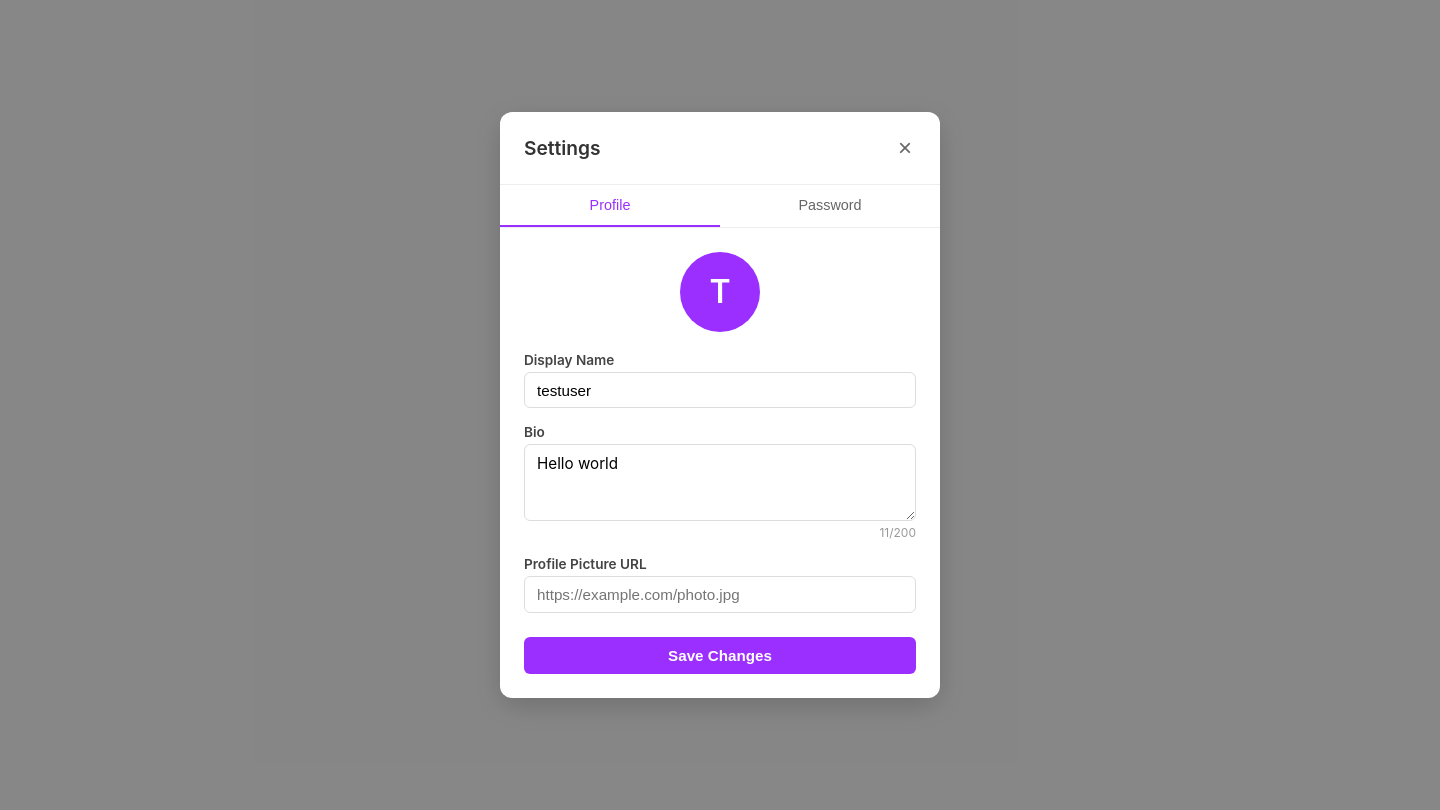
it: ProfileSettings Component › changes password successfully
Click the button "Password": (830, 206) x1=720 y1=185 x2=940 y2=227
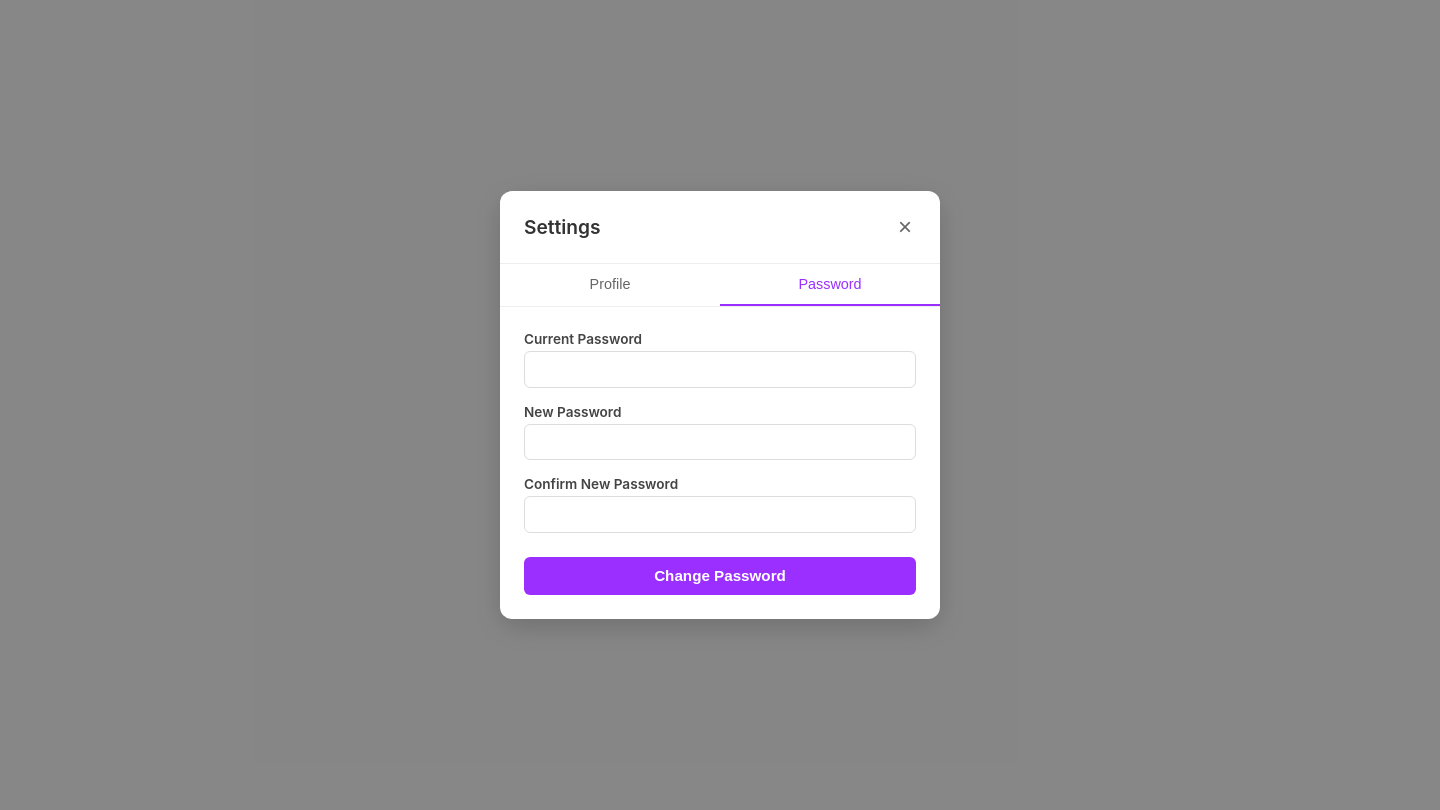
In the 1st password field: (720, 370) x1=524 y1=351 x2=916 y2=388, type "oldpassword"
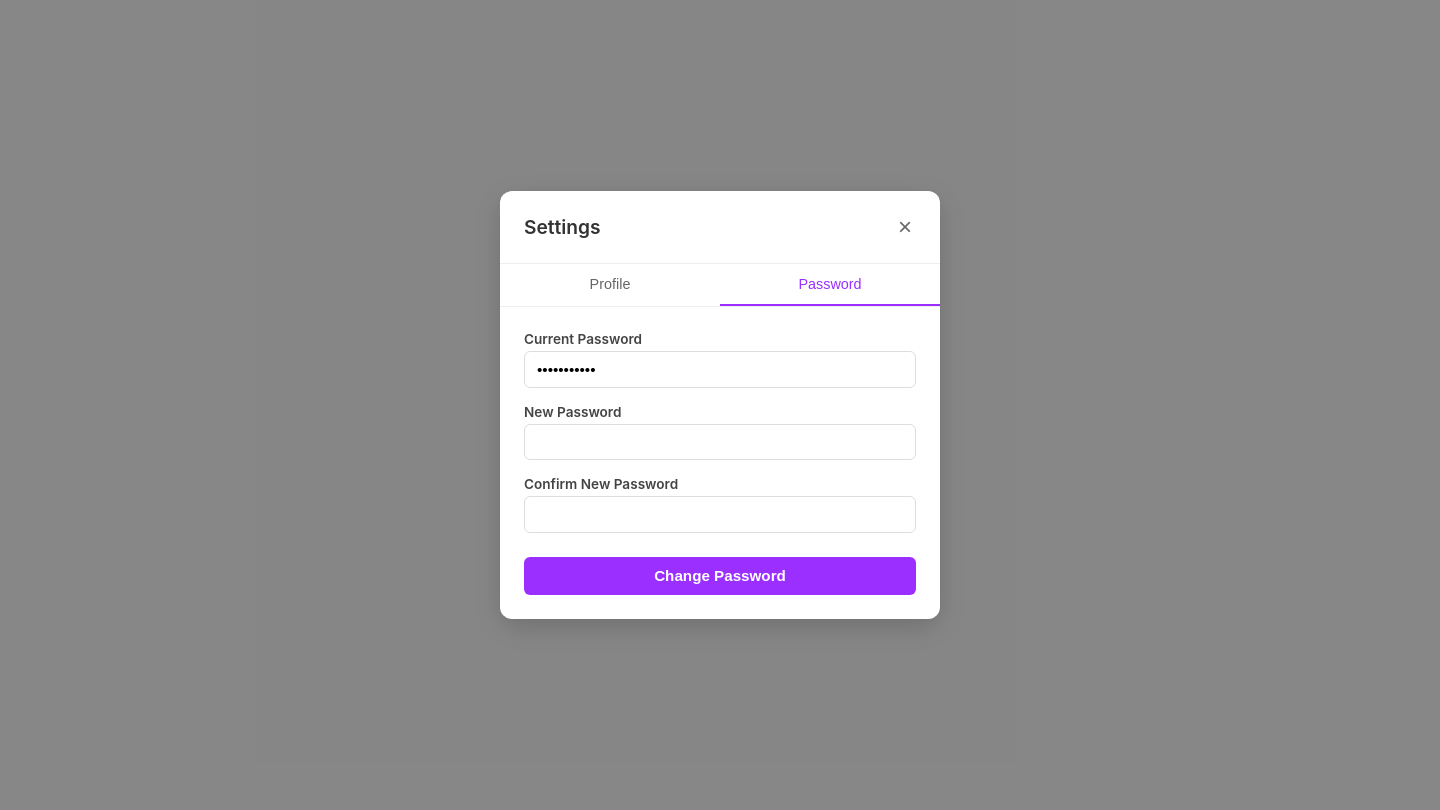
In the 2nd password field: (720, 442) x1=524 y1=424 x2=916 y2=460, type "newpassword"
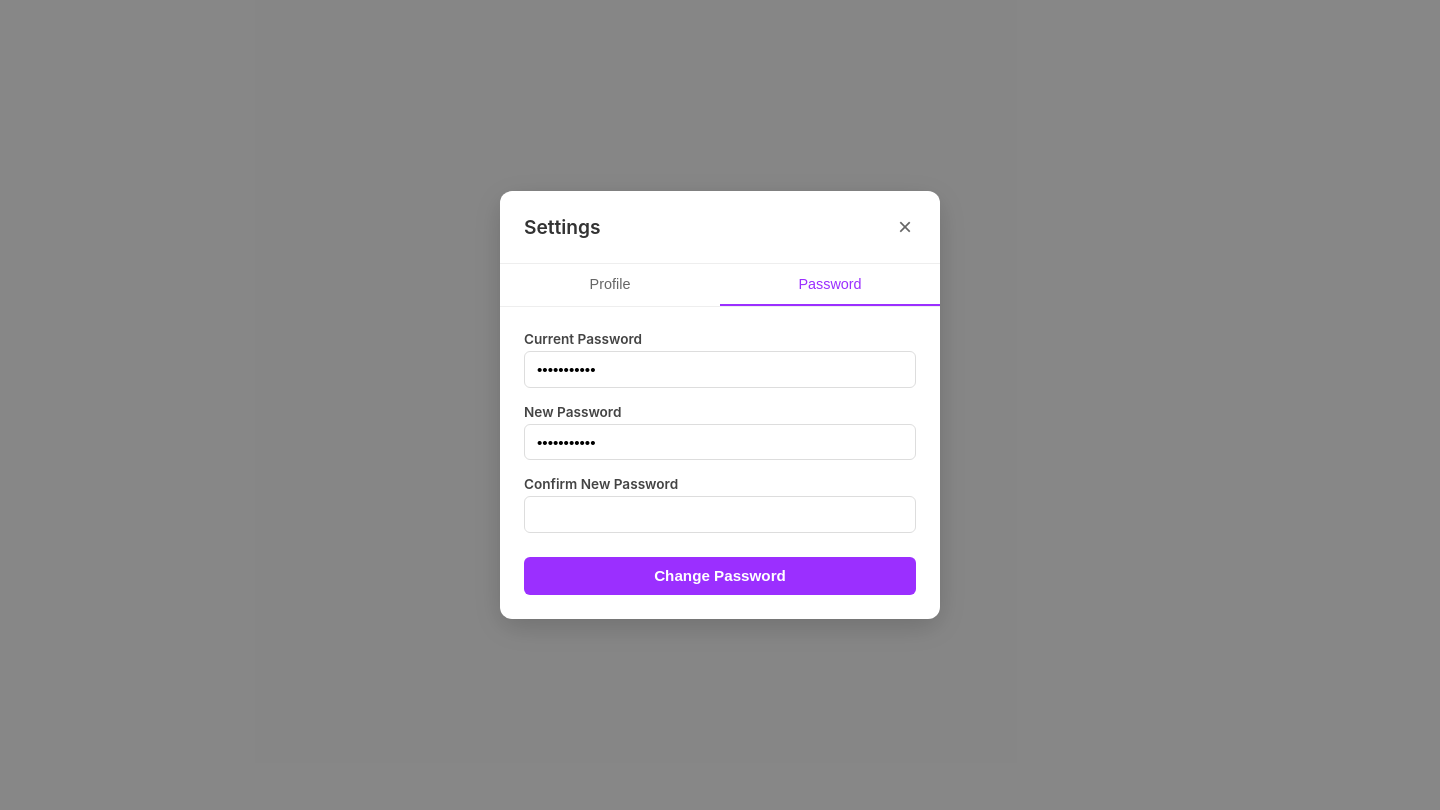
In the 3rd password field: (720, 515) x1=524 y1=496 x2=916 y2=533, type "newpassword"
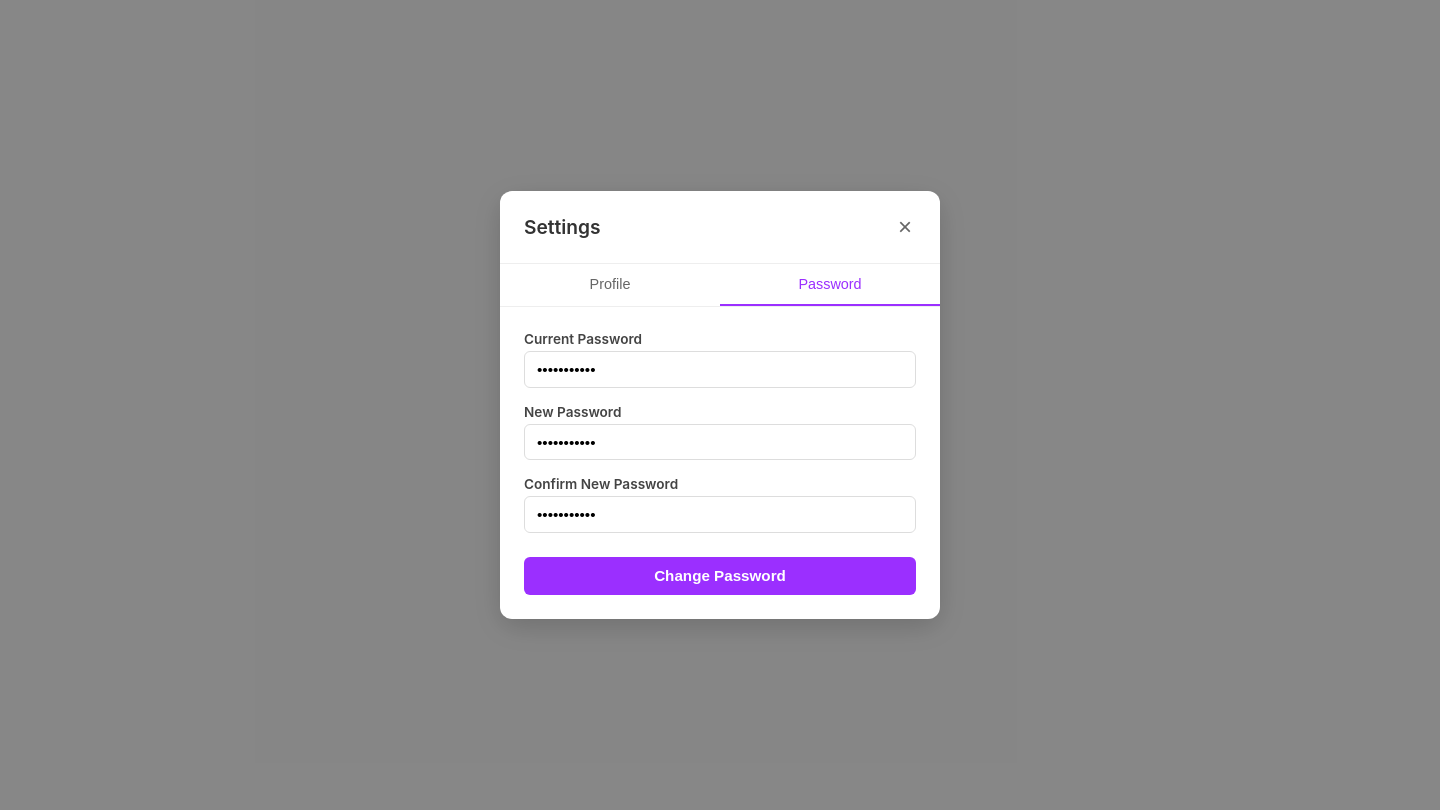
Click the button "Change Password": (720, 576) x1=524 y1=557 x2=916 y2=595
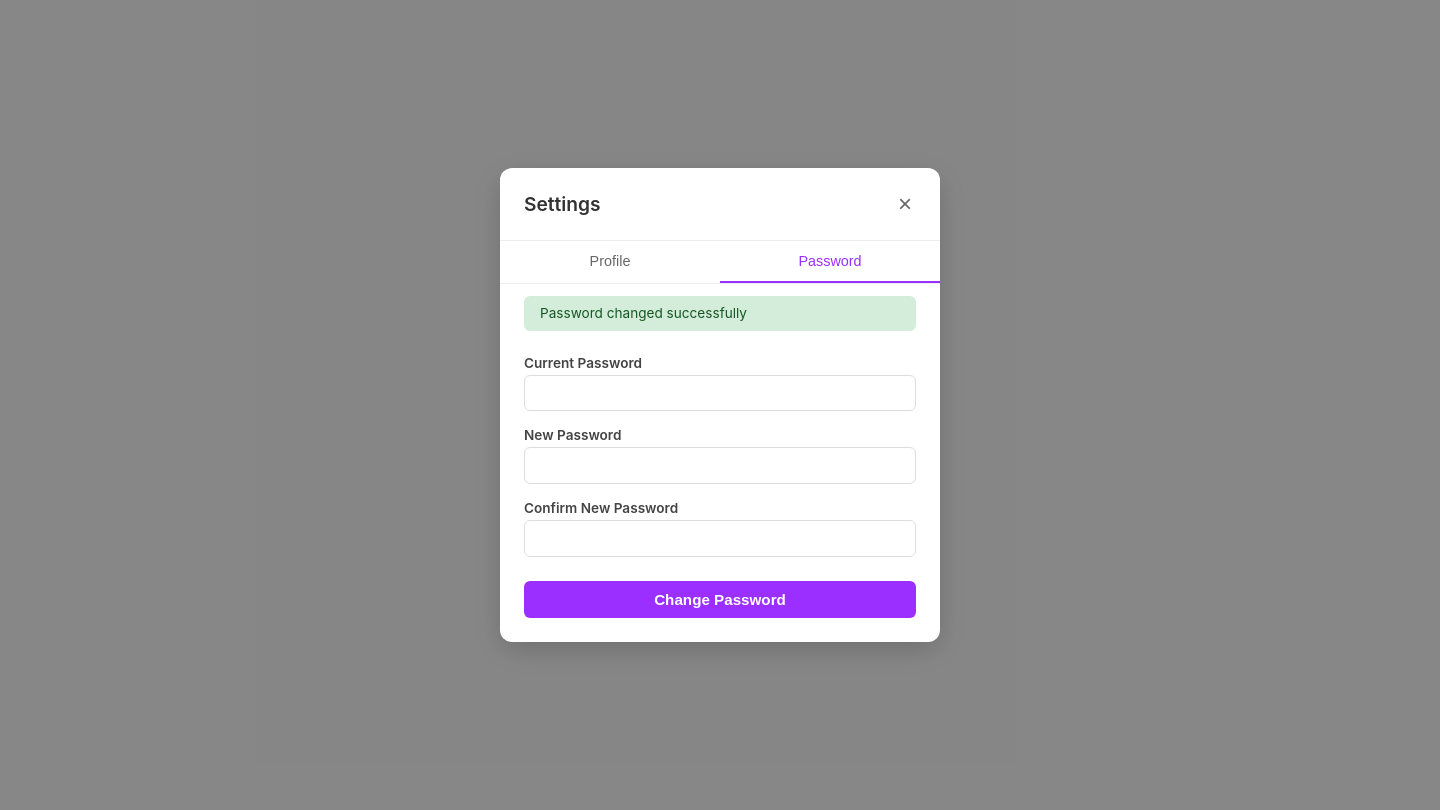
Check: the text "Password changed successfully" is shown, box x1=524 y1=296 x2=916 y2=331
